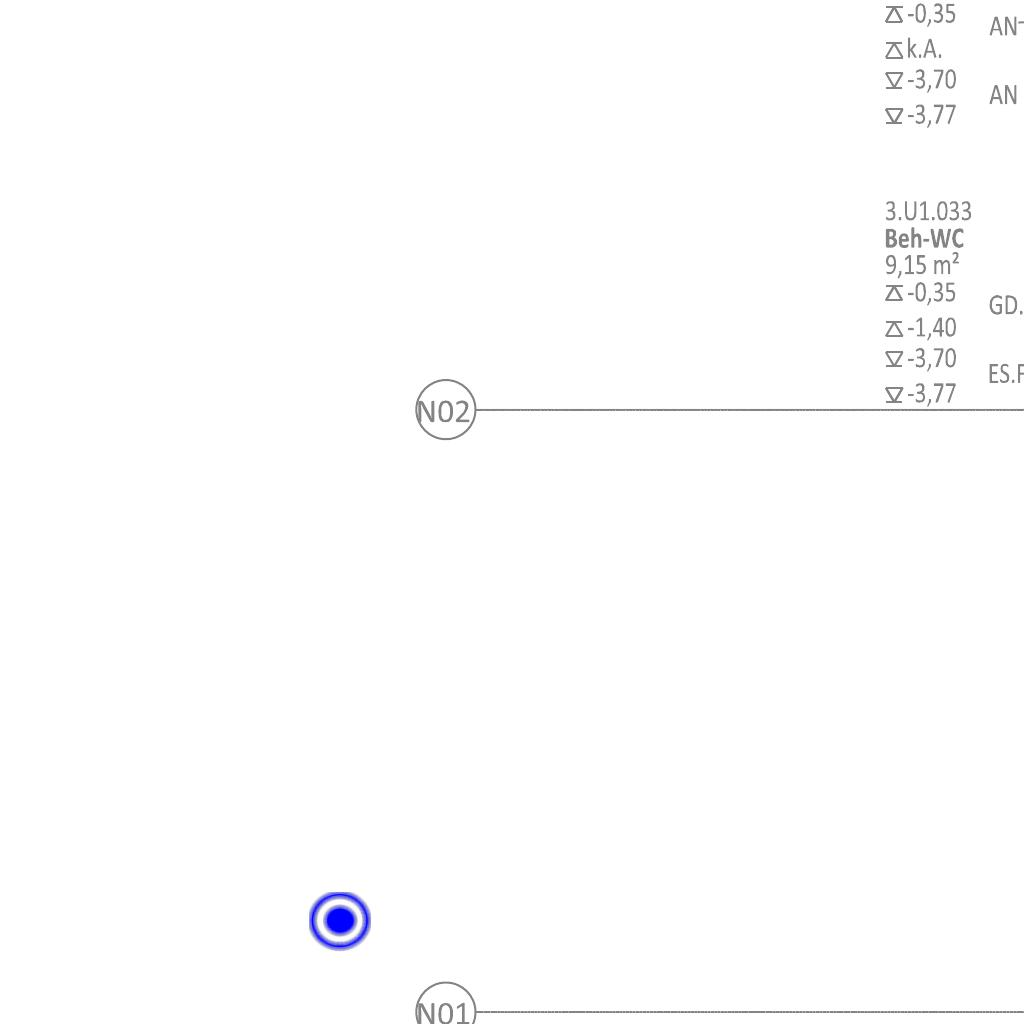Taster: (307, 890, 373, 956)
